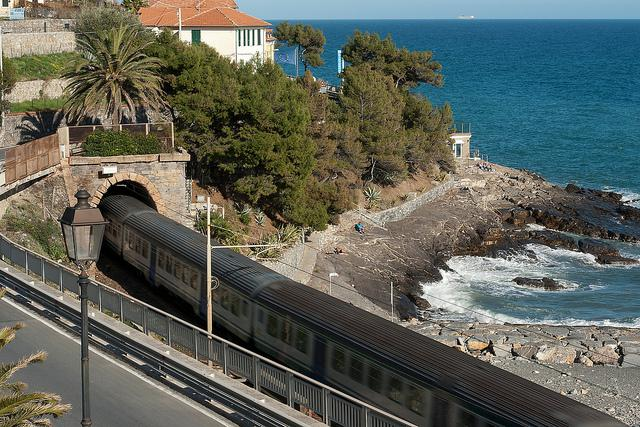Train: (99, 195, 629, 427)
